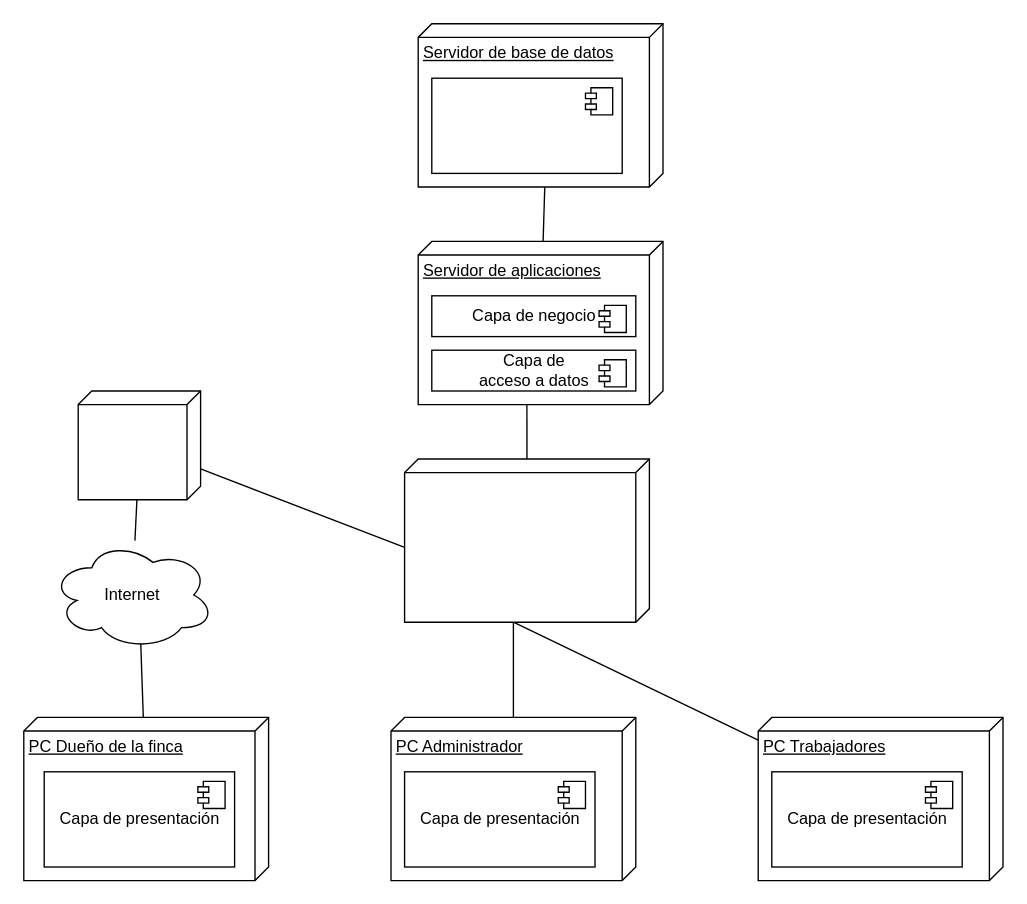
Some shapes in this 1027 by 904 pixel diagram are drawn without their labels. Each missing label, with the centre of its shape:
Modem: (x=526, y=540)
Proxy: (x=139, y=445)
SQL SERVER: (x=526, y=125)
